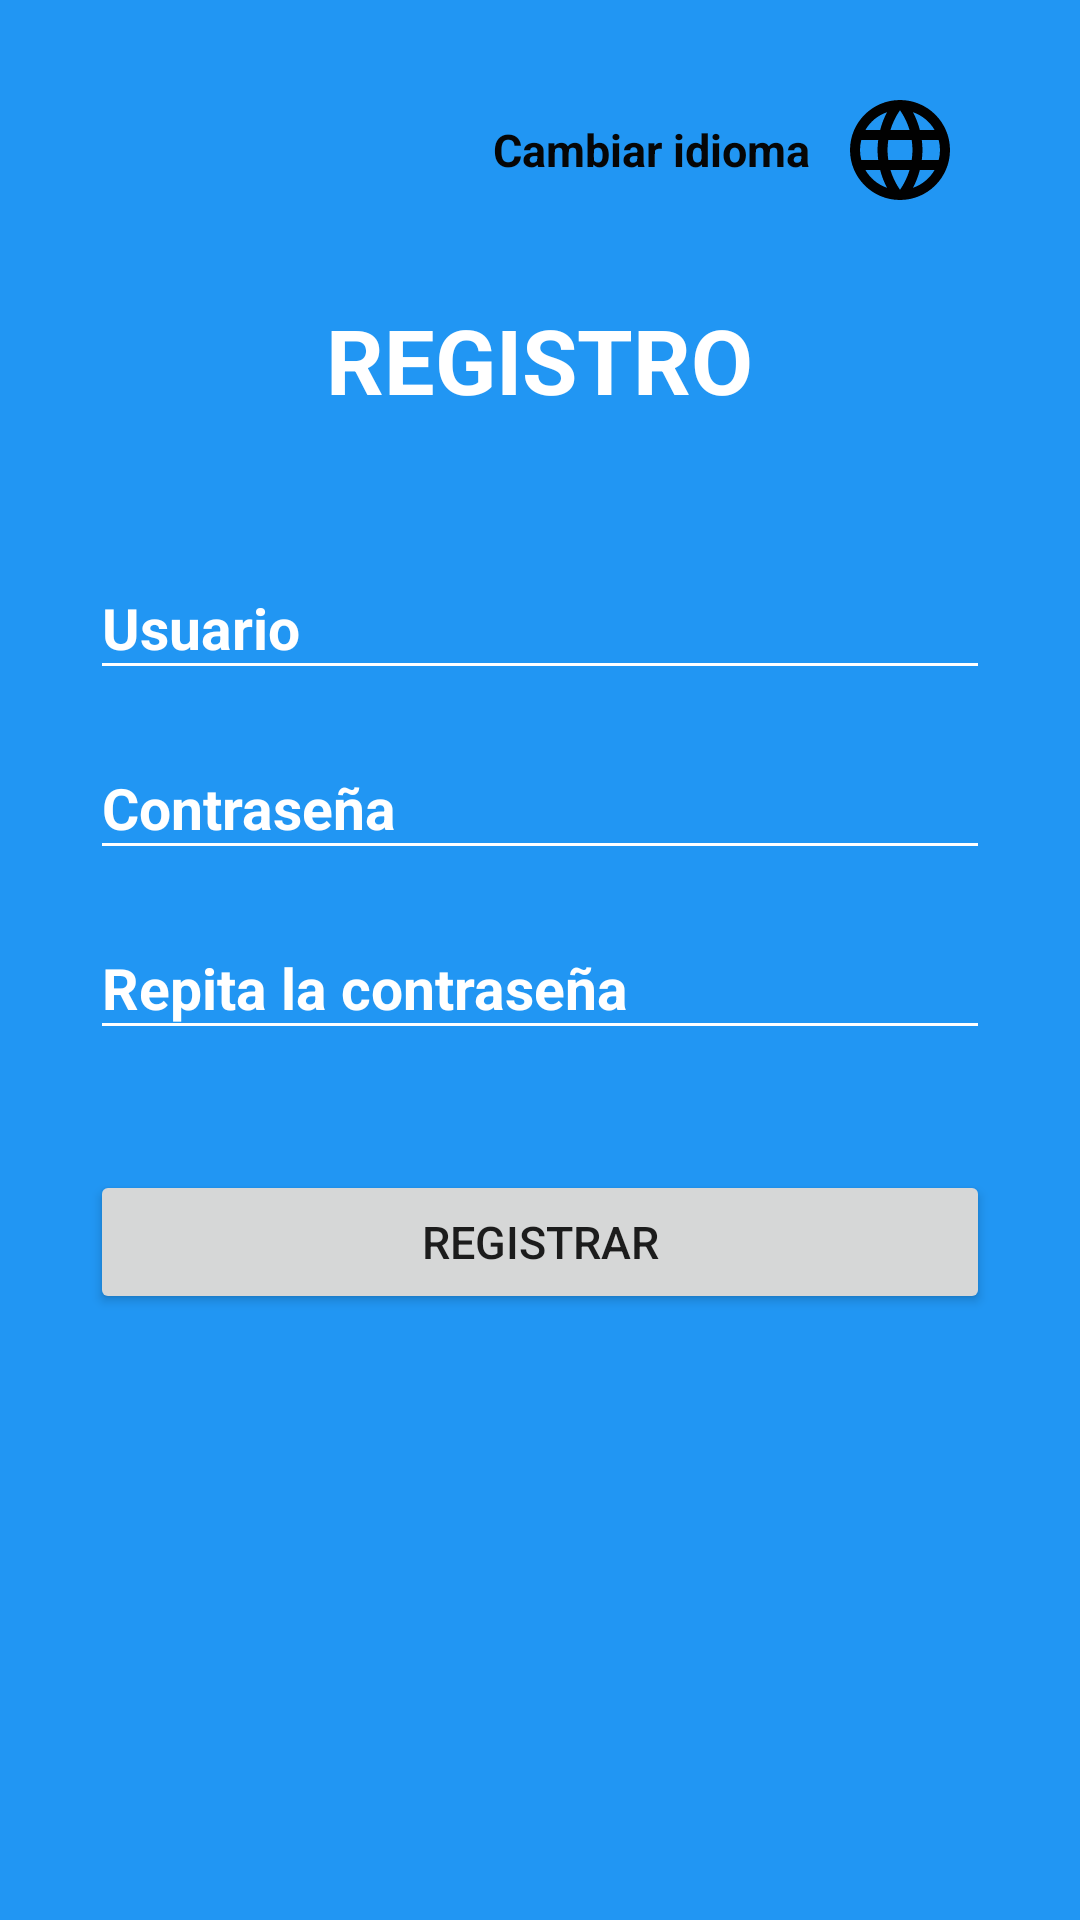

Named icons in this screenshot (1080px×1920px) and their centers, (x=x, y=y):
idioma iniciarsesion: (x=900, y=150)
